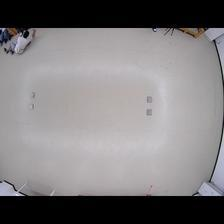fall: (1, 27, 38, 54)
